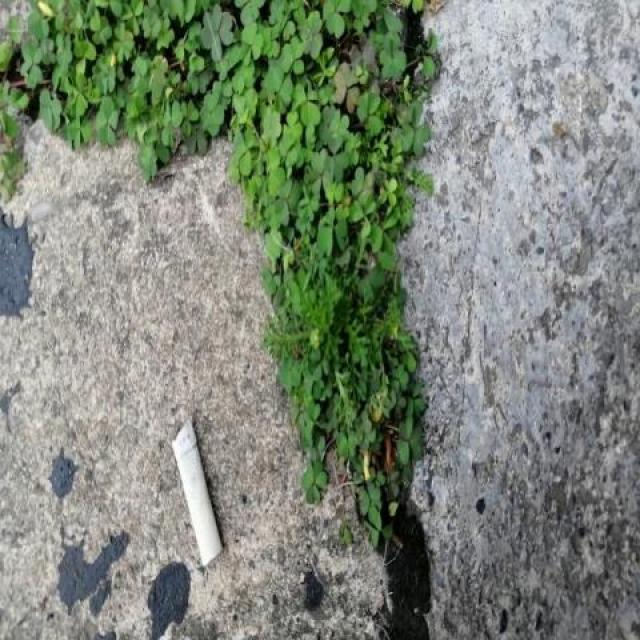non-organic waste: (168, 414, 232, 574)
